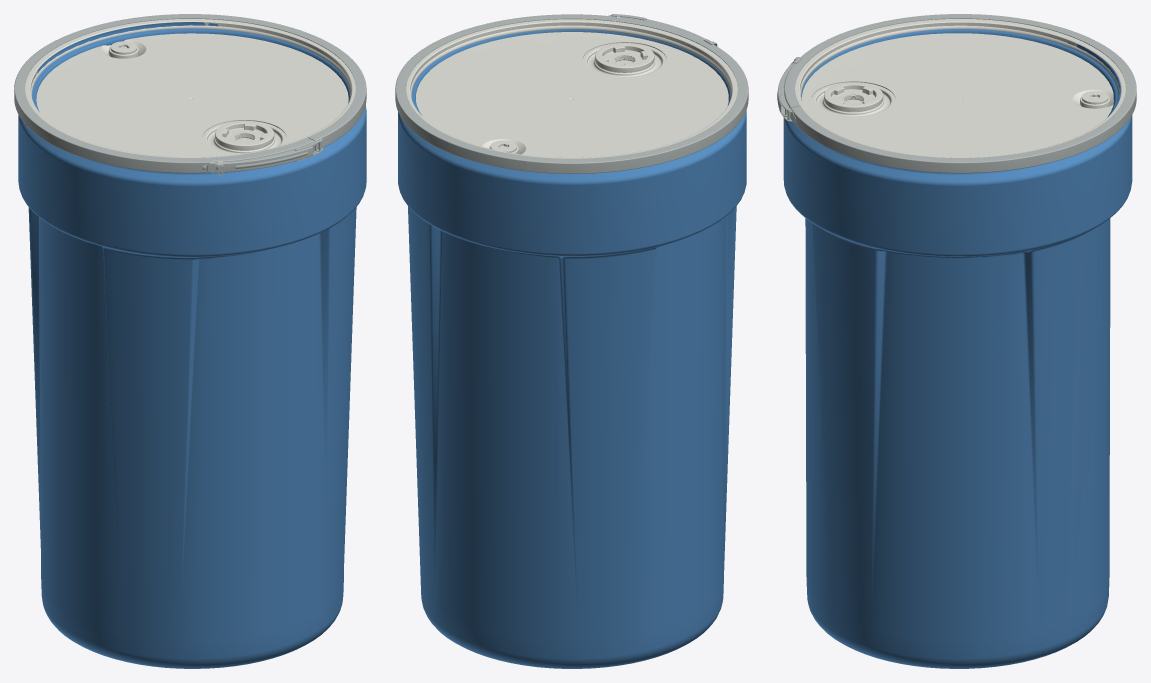
Rendered from drum_plastic_nesting_a02.glb.
3 views of the same model, side by side, from view 1: azimuth 30°, elevation 25°; view 2: azimuth 150°, elevation 25°; view 3: azimuth 270°, elevation 25° (orthographic).
Size of the model in its own units: 0.6073 by 0.9966 by 0.6193.
